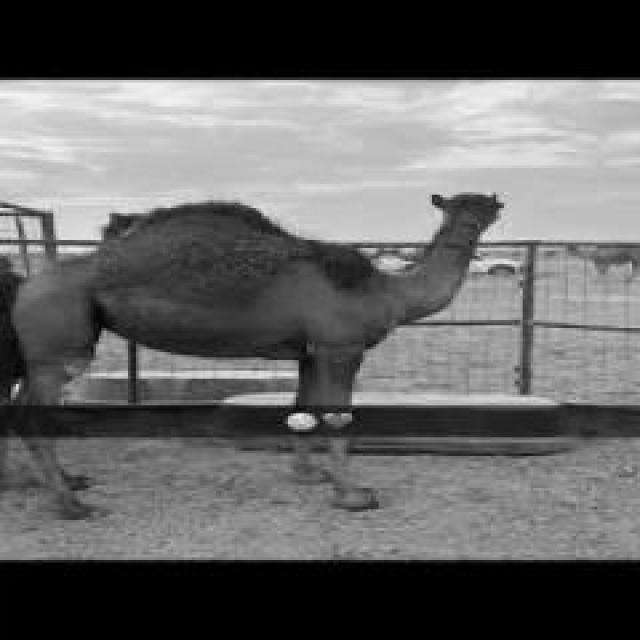Camel: (0, 190, 504, 518)
